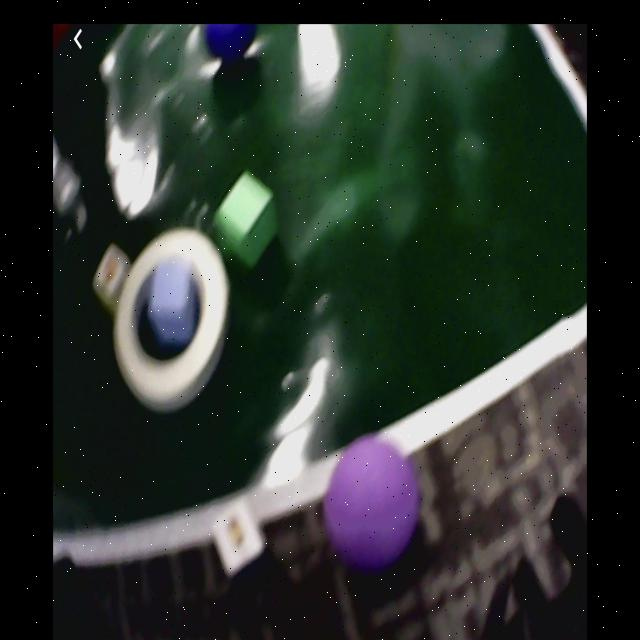ball: (327, 438, 420, 568), (204, 25, 257, 59)
